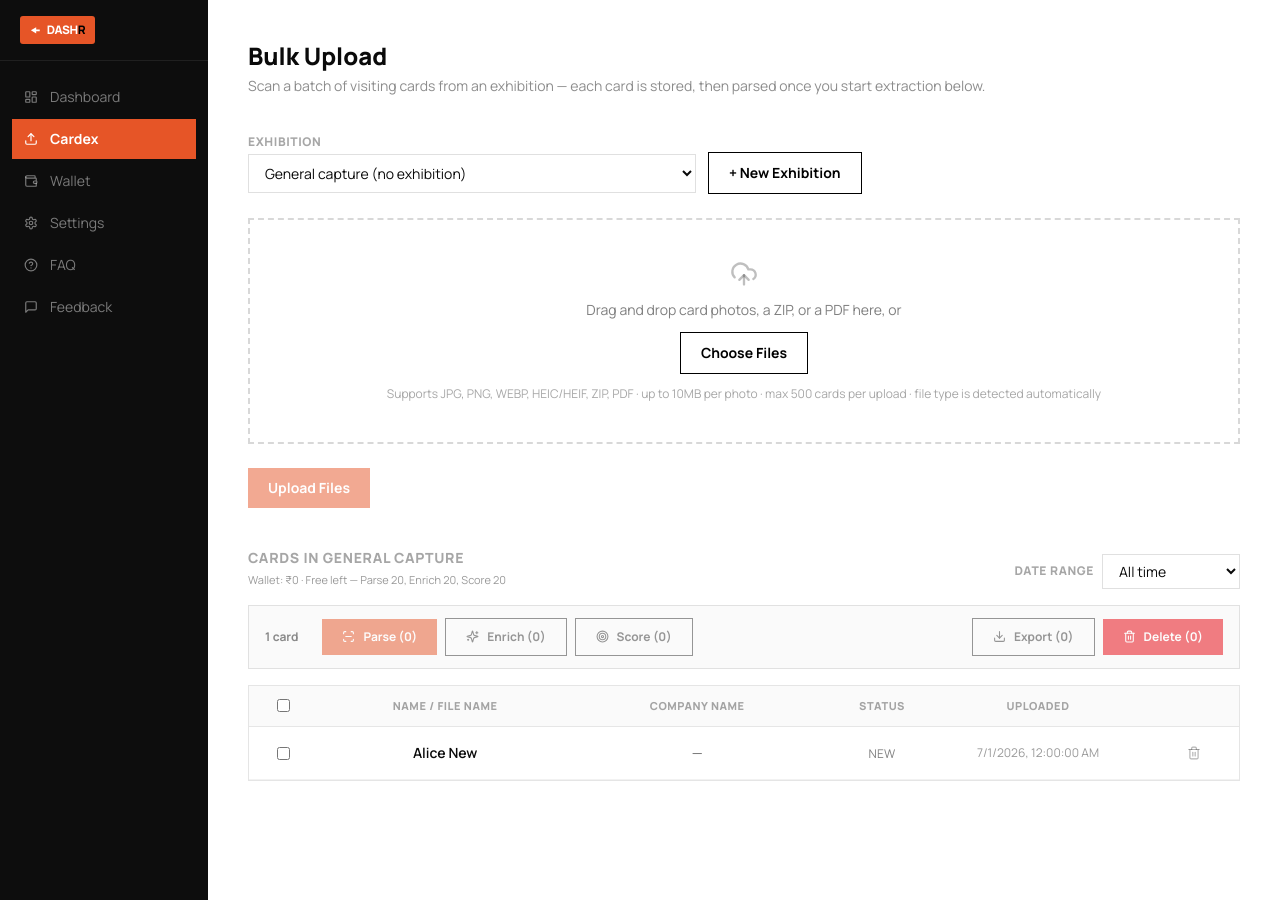
it: Upload page bulk wallet-blocked banner › shows a wallet-blocked message when a bulk parse response reports wallet_blocked_count > 0
Check: the text "Alice New" is shown, box 413,743 -> 478,762
Click the checkbox named "Select Alice New" at (283, 753), box 276,746 -> 290,760
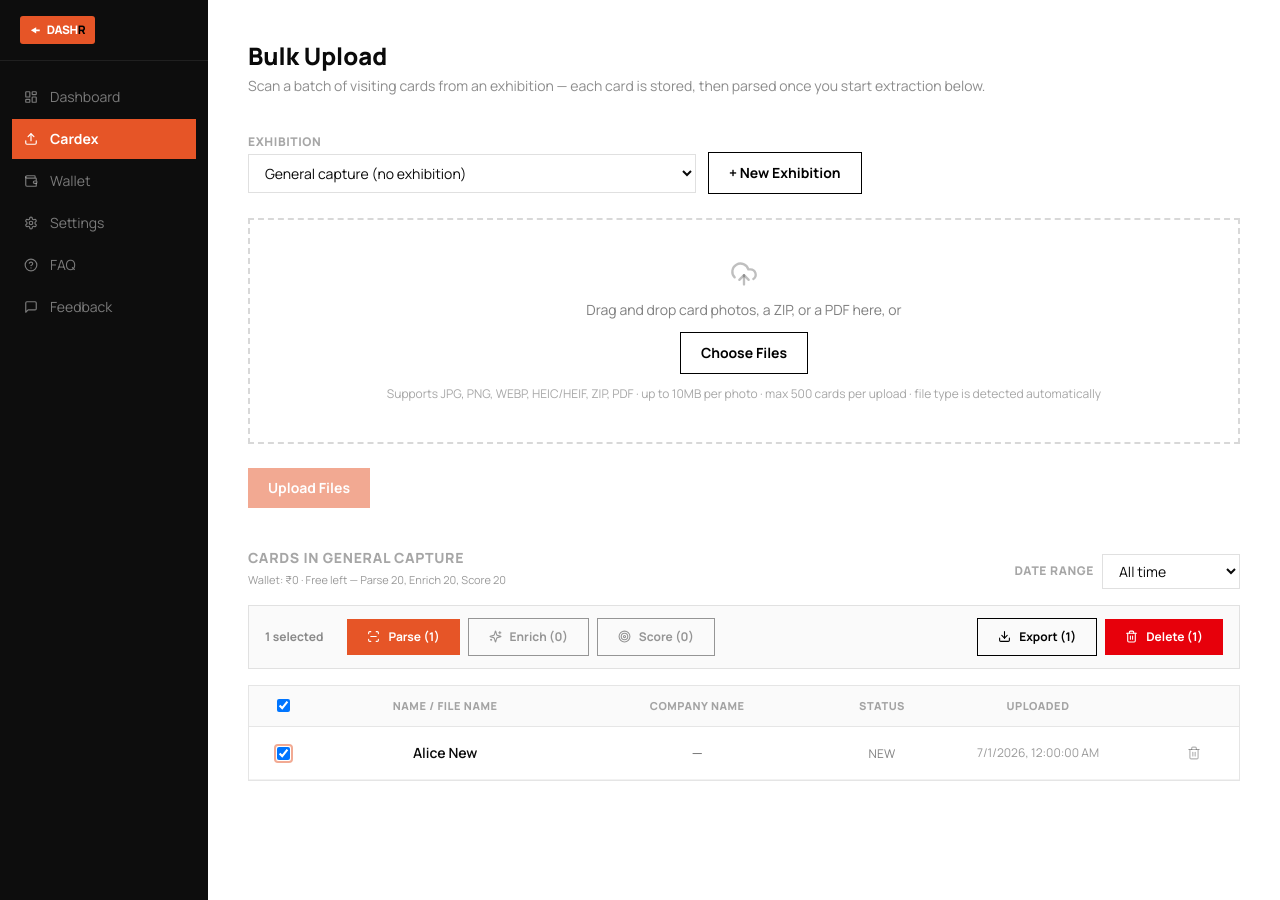
Click the button "Parse (1)" at (404, 636), box 347,618 -> 460,654
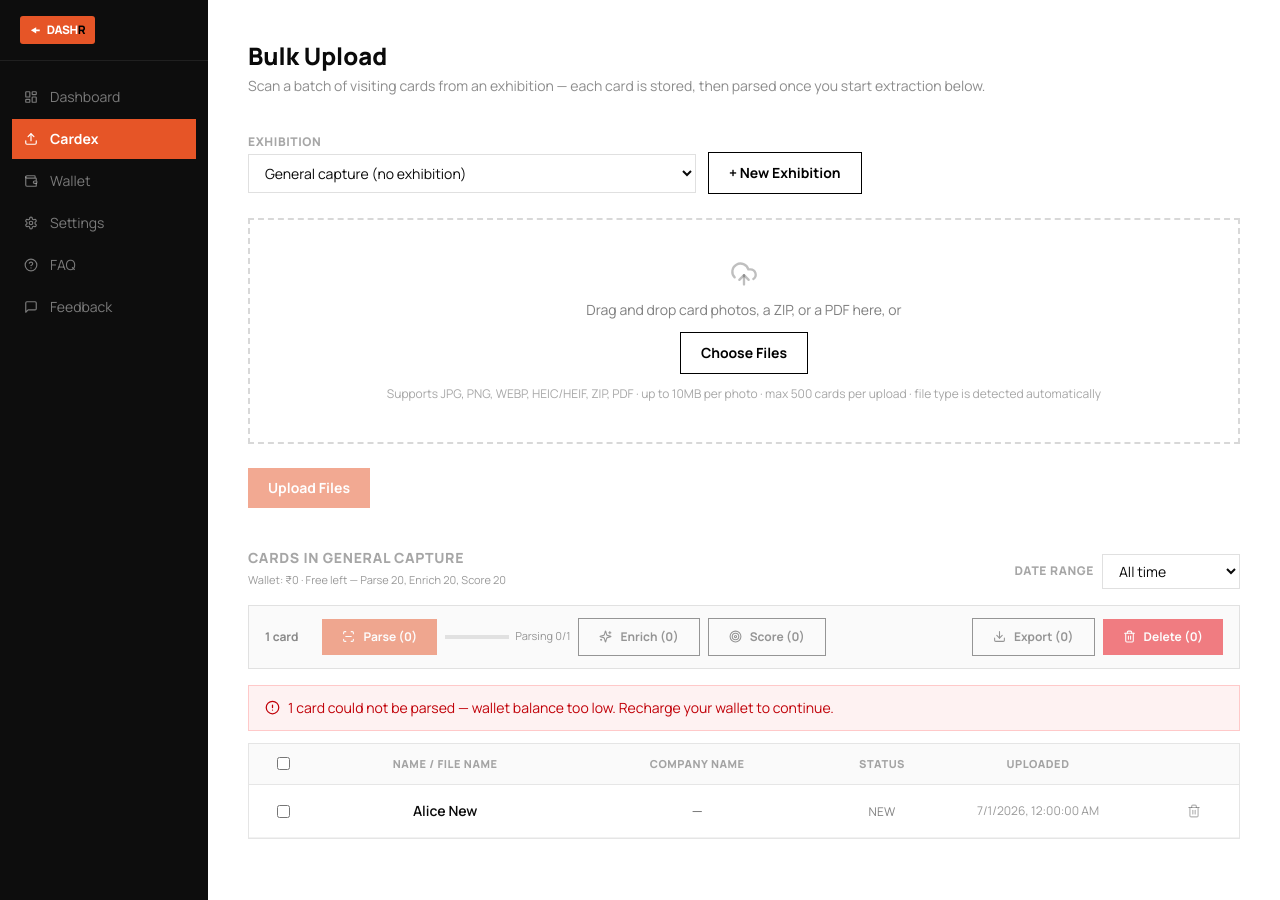
Check: the text "wallet balance too low" is shown, box 288,698 -> 834,716
